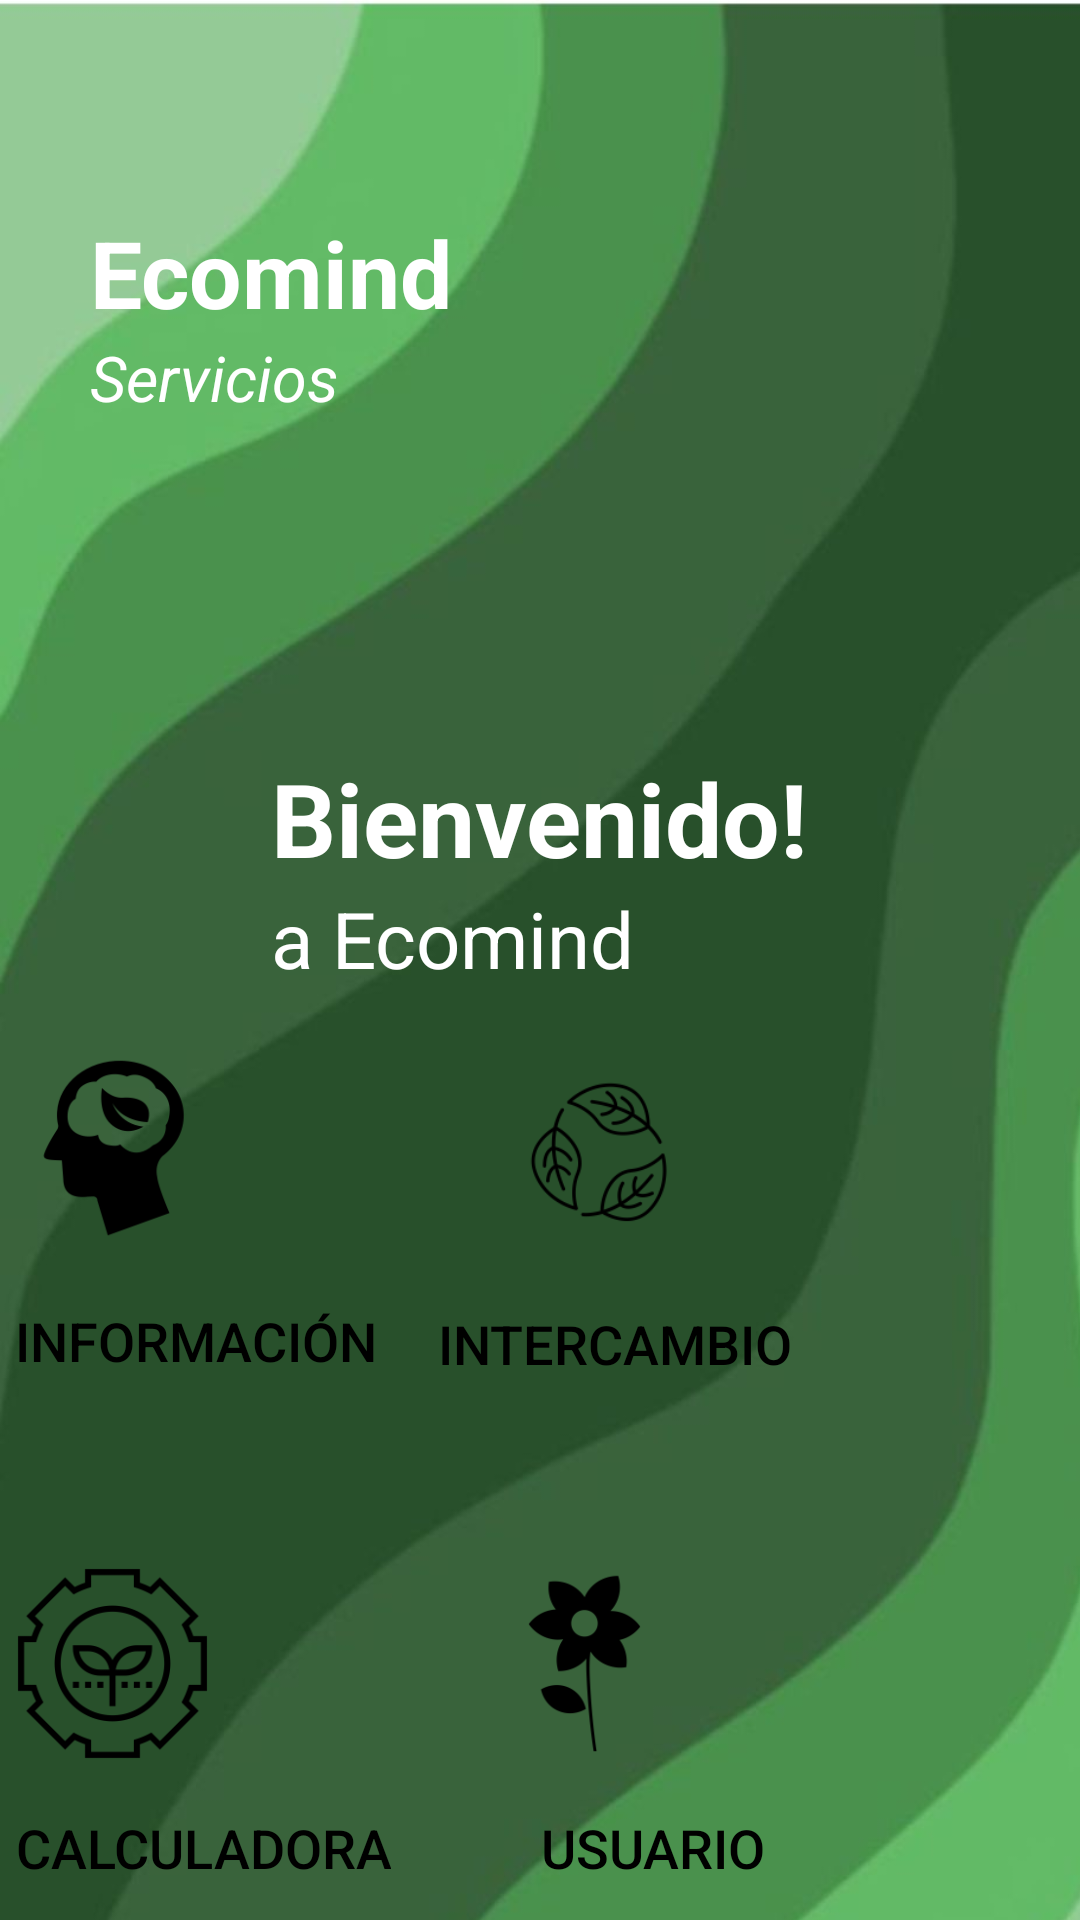

Where to tap for icons on this 1080 × 1920 app screen, as point (x, y):
infotion: point (122, 1160)
interchang: point (599, 1152)
